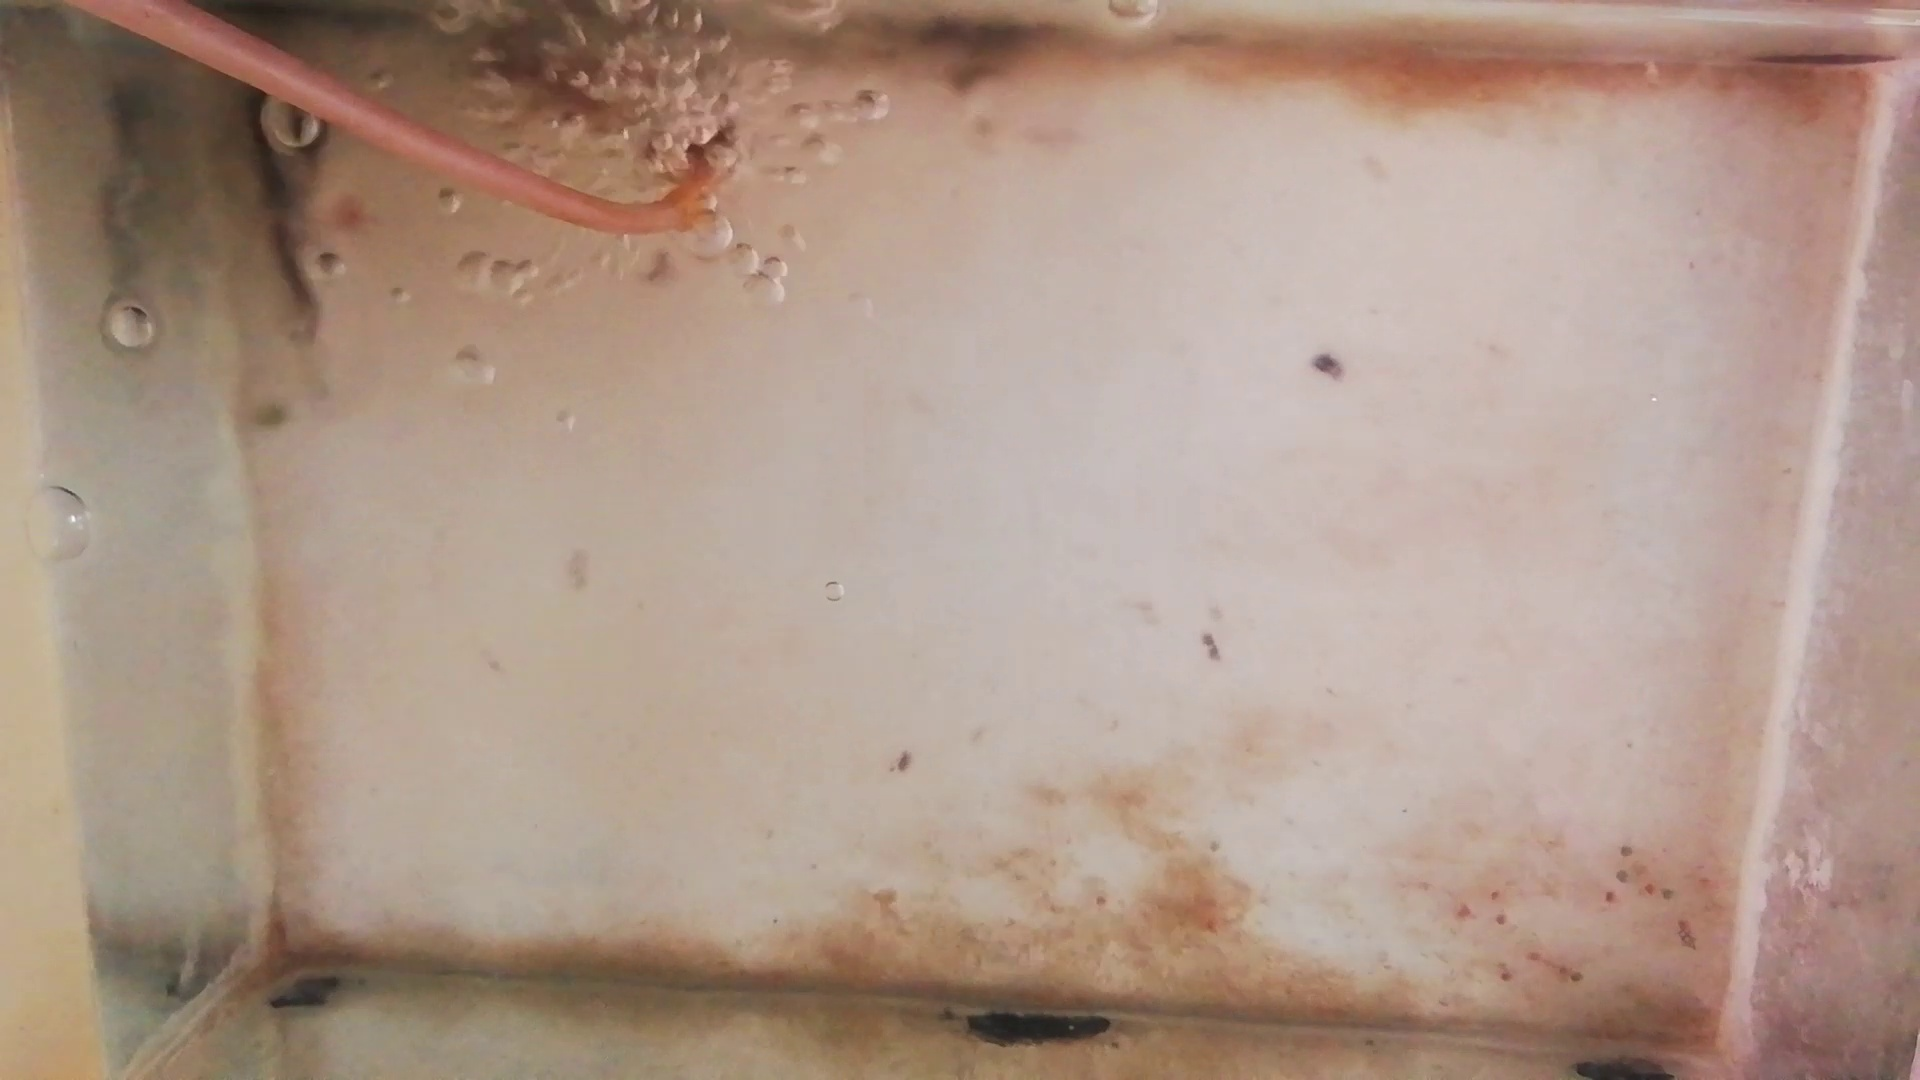fish: (251, 84, 324, 313), (464, 29, 644, 117)
